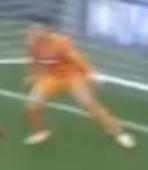goalkeeper: (15, 10, 148, 166)
